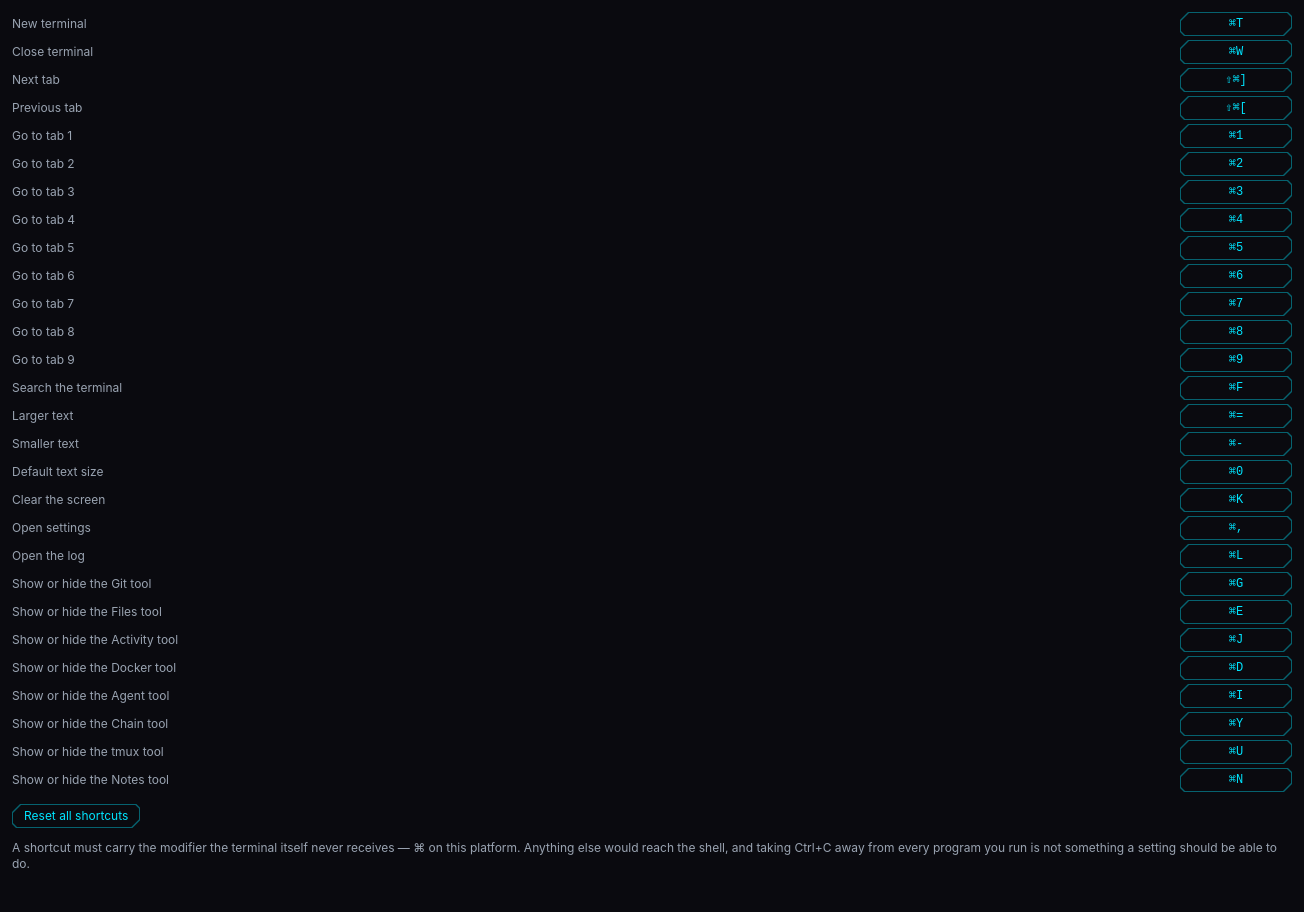
ShortcutEditor › ignores a bare modifier while recording
What coordinates should you click on to do the following:
click the button named "New terminal"
I would click on:
 (1236, 24)
Its box is left=1180, top=12, right=1292, bottom=36.
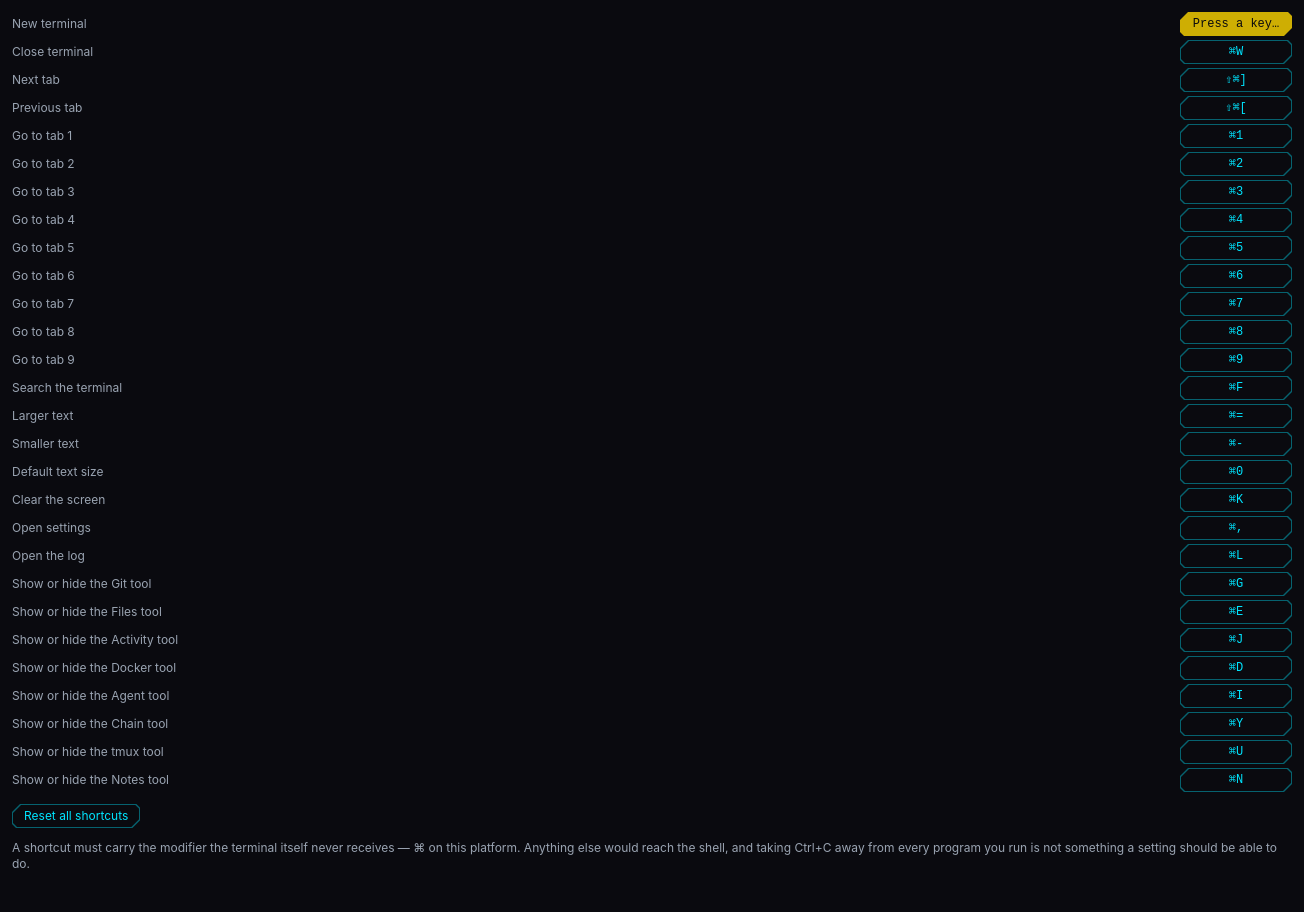
Now the button "Press a key…" is shown, box left=1180, top=12, right=1292, bottom=36
